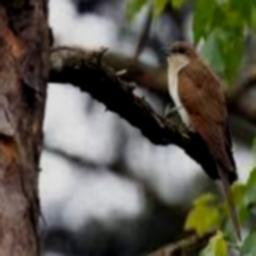Cuckoo: (160, 40, 242, 245)
